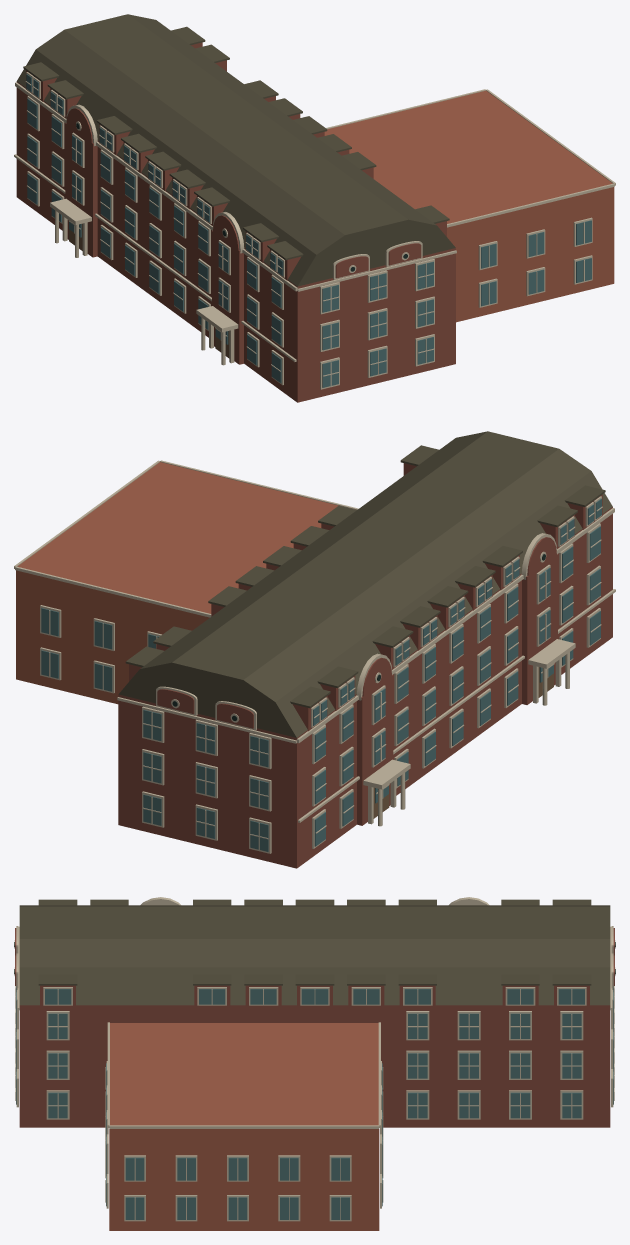
The model's file is friendly-round-shafts-2026-11-10.glb.
The picture shows the model from 3 angles, top to bottom: view 1: azimuth 30°, elevation 25°; view 2: azimuth 150°, elevation 25°; view 3: azimuth 270°, elevation 25°; orthographic projection. The views are drawn at different scales.
Parts seen in each view (by area): view 1: friendly-part-0; view 2: friendly-part-0; view 3: friendly-part-0.
Part boxes in pixels (box(x1,y1,x2,y2)): friendly-part-0: box(14, 14, 615, 402); friendly-part-0: box(14, 431, 615, 868); friendly-part-0: box(14, 897, 615, 1230).
Bounding box in the file's own units: 36.3 × 14.1 × 46.86.
